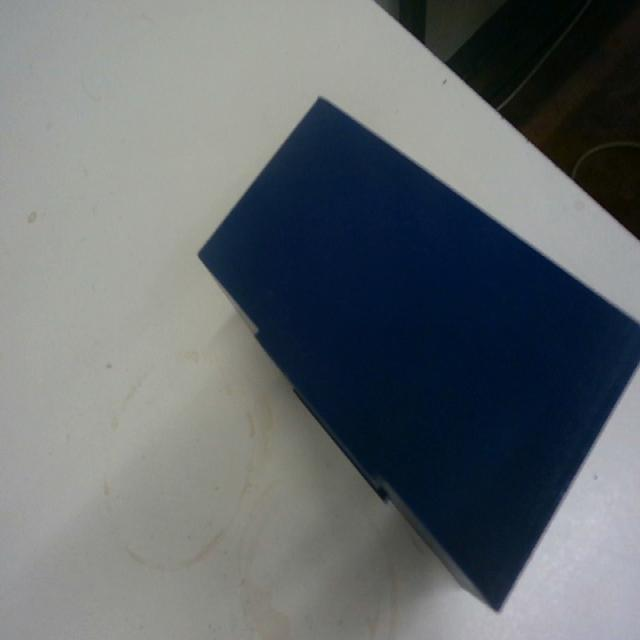Blue Cuboid: (196, 92, 639, 612)
